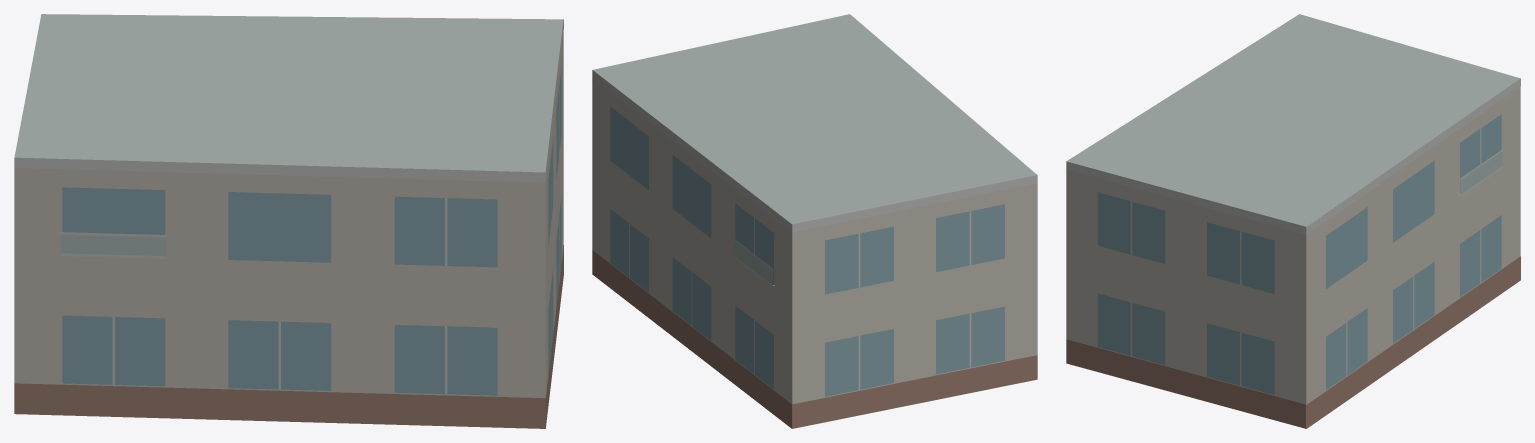
File: survey-upis-32891172.glb
The picture shows the model from 3 angles, left to right: view 1: azimuth 30°, elevation 25°; view 2: azimuth 150°, elevation 25°; view 3: azimuth 270°, elevation 25°; orthographic projection. The views are drawn at different scales.
Parts seen in each view (by area): view 1: survey-upis-32891172.tmp; view 2: survey-upis-32891172.tmp; view 3: survey-upis-32891172.tmp.
Part boxes in pixels (x1,y1,x2,y2): survey-upis-32891172.tmp: [14, 14, 563, 428]; survey-upis-32891172.tmp: [592, 14, 1037, 428]; survey-upis-32891172.tmp: [1066, 14, 1520, 428].
Bounding box in the file's own units: 13.79 × 6.1 × 12.45.
